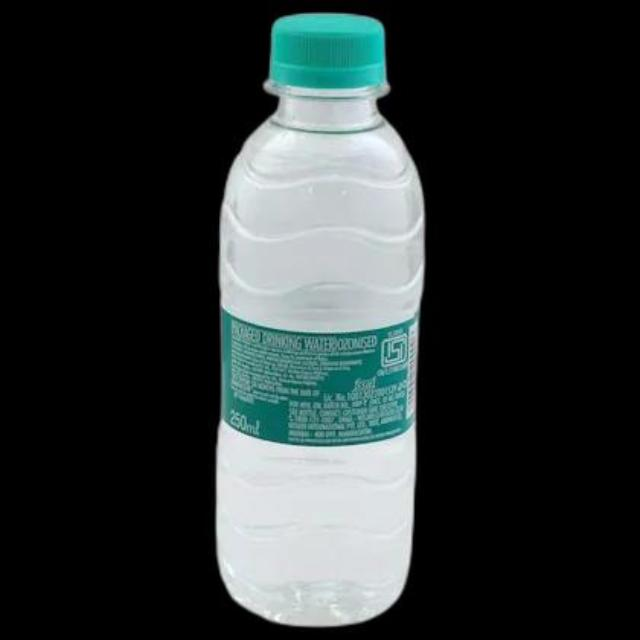Bisleri Packaged Drinking Water 250 ml: (214, 10, 426, 626)
